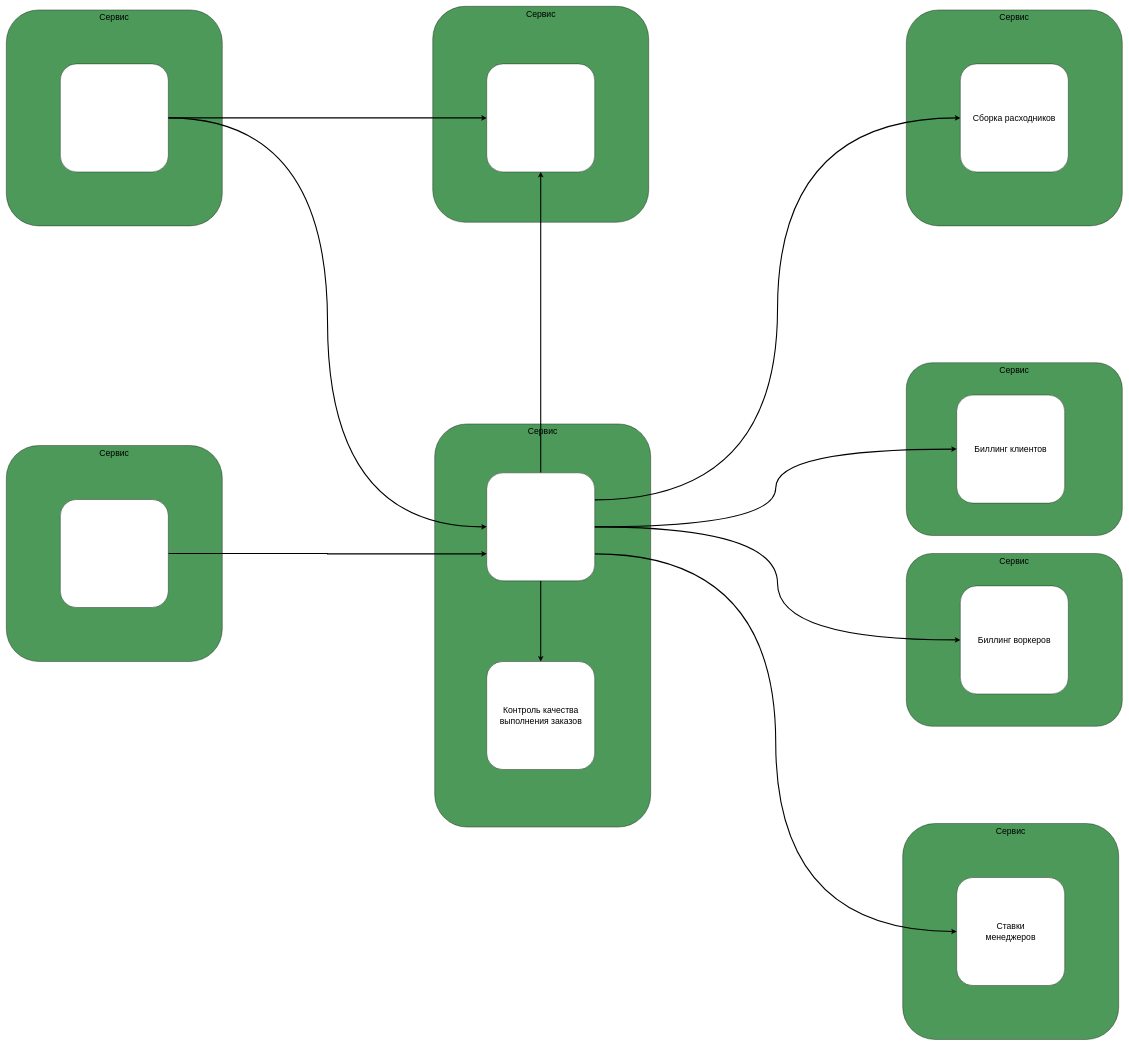
Some shapes in this 1129 by 1046 pixel diagram are drawn without their labels. Each missing label, with the centre of its shape:
"Маркетплейс заявок от клиентов" belongs at point (540, 526).
"Матчинг исполнителей на задачи" belongs at point (540, 118).
"Размещение вакансий и тестирование кандидатов" belongs at point (114, 118).
"Регистрация тестировщиков из HCB" belongs at point (114, 553).
